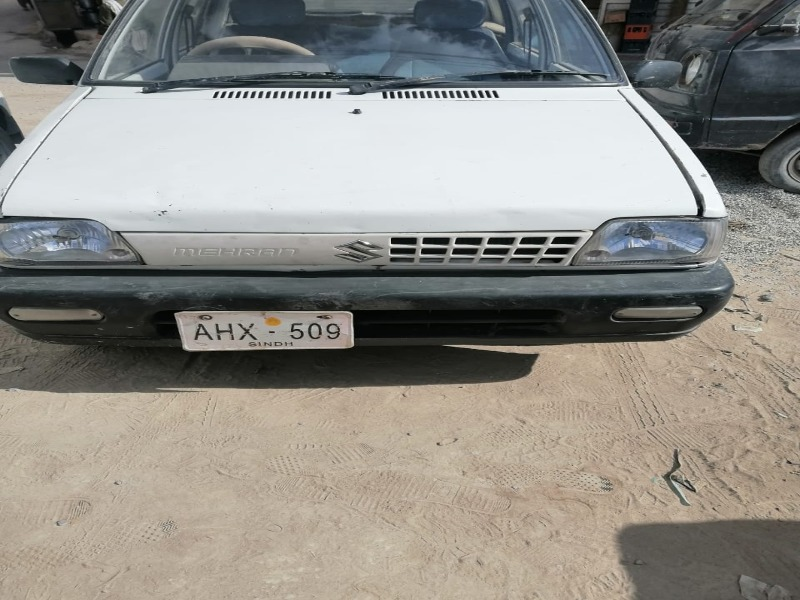License Plate: (169, 306, 358, 357)
